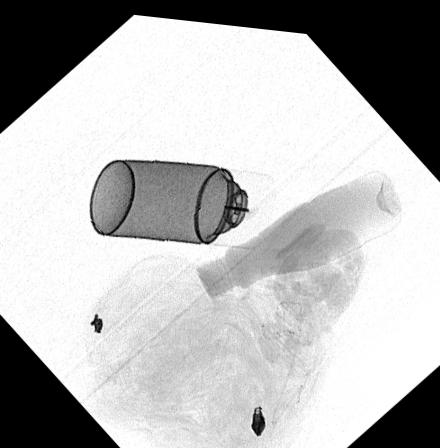Sprayer: (90, 156, 275, 243)
